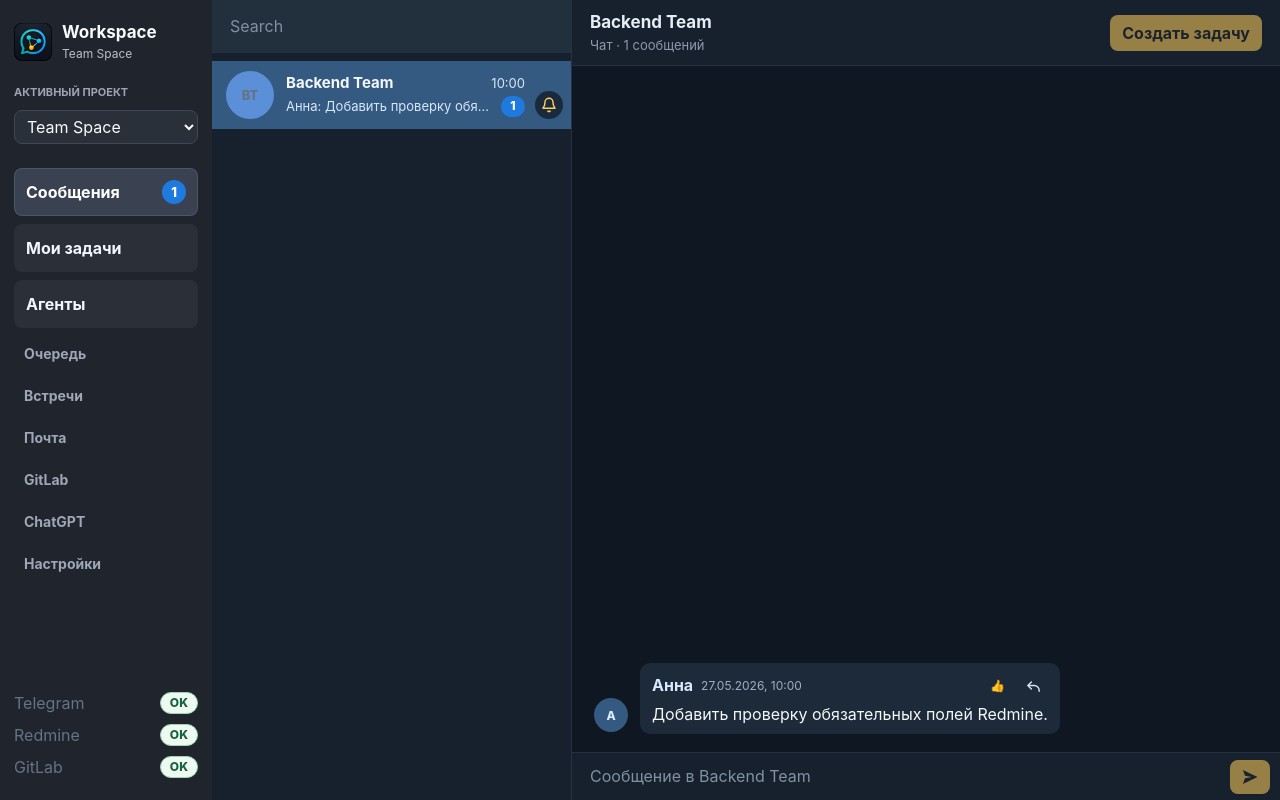
Test: App › shows agent work reports
Click the button "Агенты". click: (106, 304)
box: [14,280,198,328]
(page scrolled)
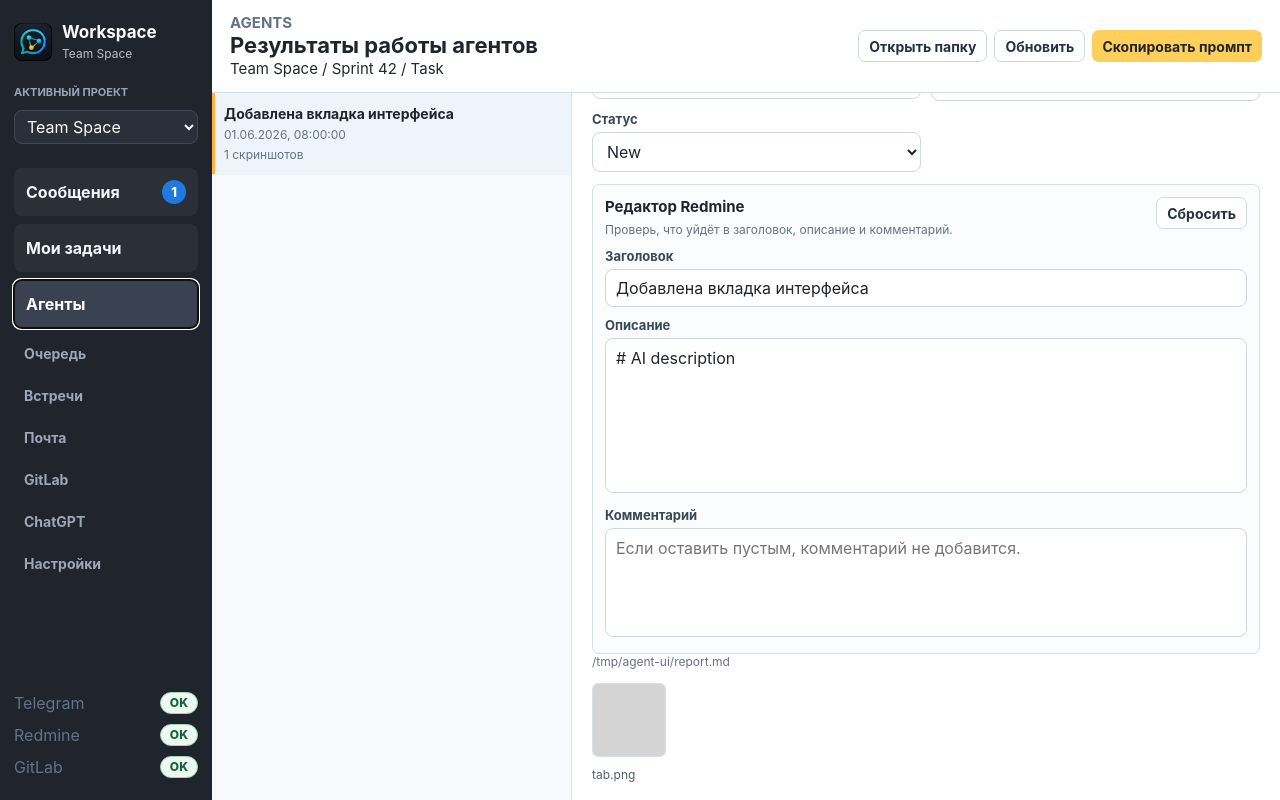
Click the button named "Открыть изображение tab.png". click: (629, 720)
box: [592,683,1260,761]
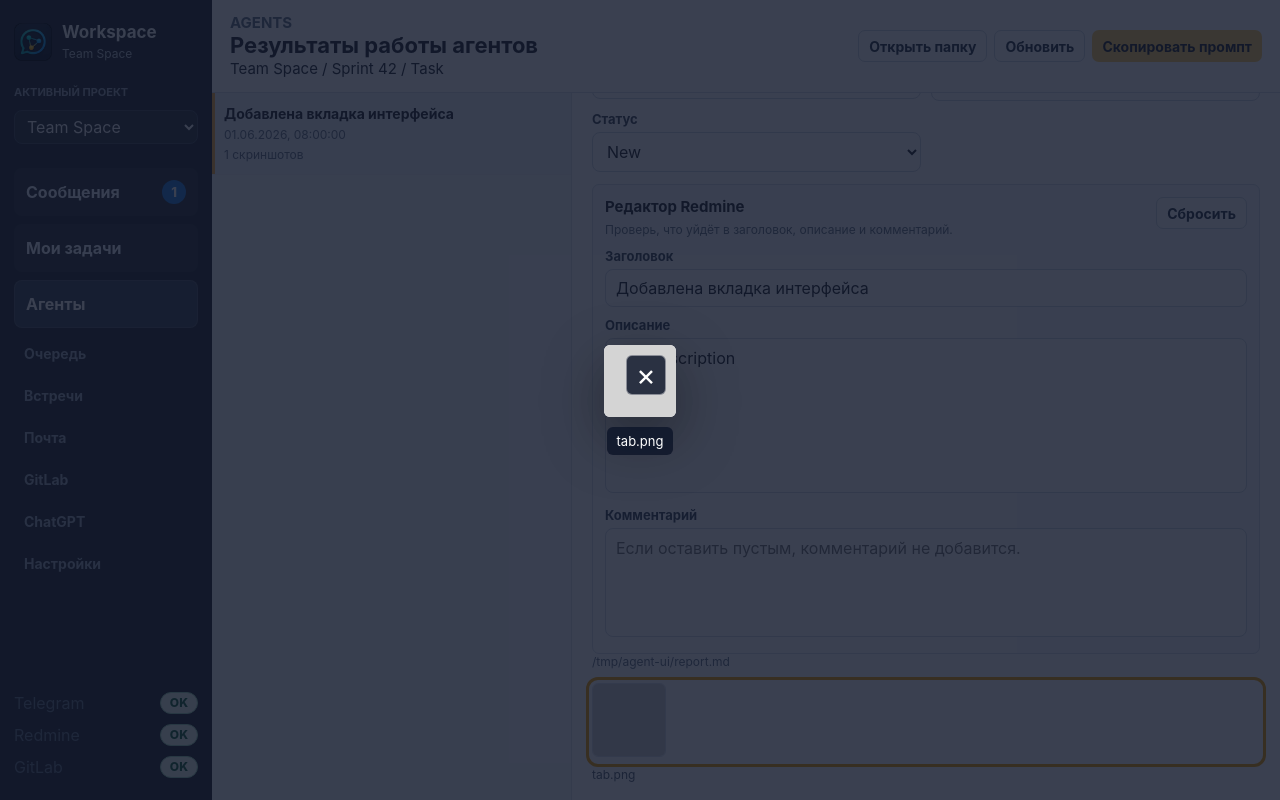
Expected: the dialog "tab.png" is shown
